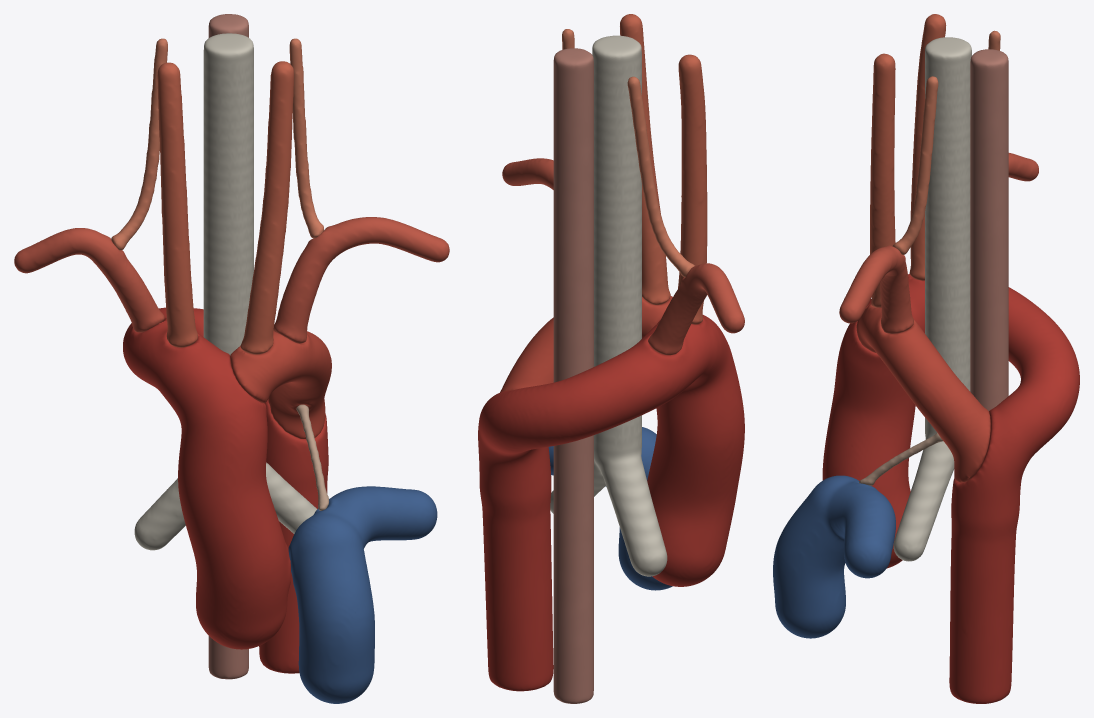
File: aorta_double.glb
3 views of the same model, side by side, from view 1: azimuth 30°, elevation 25°; view 2: azimuth 150°, elevation 25°; view 3: azimuth 270°, elevation 25° (orthographic). The views are drawn at different scales.
Parts seen in each view (by area): view 1: aorta, trachea, pulmonary_trunk, left_common_carotid, right_common_carotid, left_arch, left_subclavian, right_subclavian, left_vertebral, right_vertebral, oesophagus, ligamentum_arteriosum; view 2: aorta, oesophagus, trachea, right_common_carotid, right_subclavian, left_common_carotid, left_arch, right_vertebral, pulmonary_trunk, left_subclavian; view 3: aorta, trachea, oesophagus, pulmonary_trunk, left_arch, left_common_carotid, left_subclavian, right_common_carotid, left_vertebral, ligamentum_arteriosum, right_subclavian.
Part boxes in pixels (x1=…): aorta: x1=123, y1=307, x2=328, y2=673; trachea: x1=134, y1=33, x2=317, y2=550; pulmonary_trunk: x1=288, y1=486, x2=437, y2=703; left_common_carotid: x1=240, y1=61, x2=293, y2=354; right_common_carotid: x1=157, y1=62, x2=197, y2=347; left_arch: x1=230, y1=331, x2=331, y2=439; left_subclavian: x1=273, y1=217, x2=449, y2=343; right_subclavian: x1=14, y1=228, x2=164, y2=332; left_vertebral: x1=289, y1=38, x2=323, y2=238; right_vertebral: x1=111, y1=38, x2=167, y2=250; oesophagus: x1=208, y1=14, x2=248, y2=679; ligamentum_arteriosum: x1=296, y1=404, x2=328, y2=510; aorta: x1=478, y1=315, x2=744, y2=691; oesophagus: x1=553, y1=48, x2=593, y2=703; trachea: x1=550, y1=35, x2=667, y2=576; right_common_carotid: x1=678, y1=54, x2=707, y2=324; right_subclavian: x1=648, y1=263, x2=744, y2=355; left_common_carotid: x1=620, y1=14, x2=670, y2=304; left_arch: x1=500, y1=296, x2=672, y2=392; right_vertebral: x1=627, y1=76, x2=694, y2=277; pulmonary_trunk: x1=548, y1=427, x2=672, y2=590; left_subclavian: x1=502, y1=158, x2=553, y2=189; aorta: x1=822, y1=273, x2=1079, y2=703; trachea: x1=893, y1=37, x2=971, y2=561; oesophagus: x1=970, y1=49, x2=1008, y2=410; pulmonary_trunk: x1=773, y1=475, x2=895, y2=638; left_arch: x1=856, y1=304, x2=990, y2=482; left_common_carotid: x1=870, y1=53, x2=895, y2=307; left_subclavian: x1=839, y1=245, x2=913, y2=333; right_common_carotid: x1=909, y1=14, x2=946, y2=280; left_vertebral: x1=892, y1=76, x2=938, y2=254; ligamentum_arteriosum: x1=859, y1=432, x2=942, y2=485; right_subclavian: x1=1008, y1=153, x2=1038, y2=181.
Bounding box in the file's own units: 12.31 × 22.78 × 10.35.
